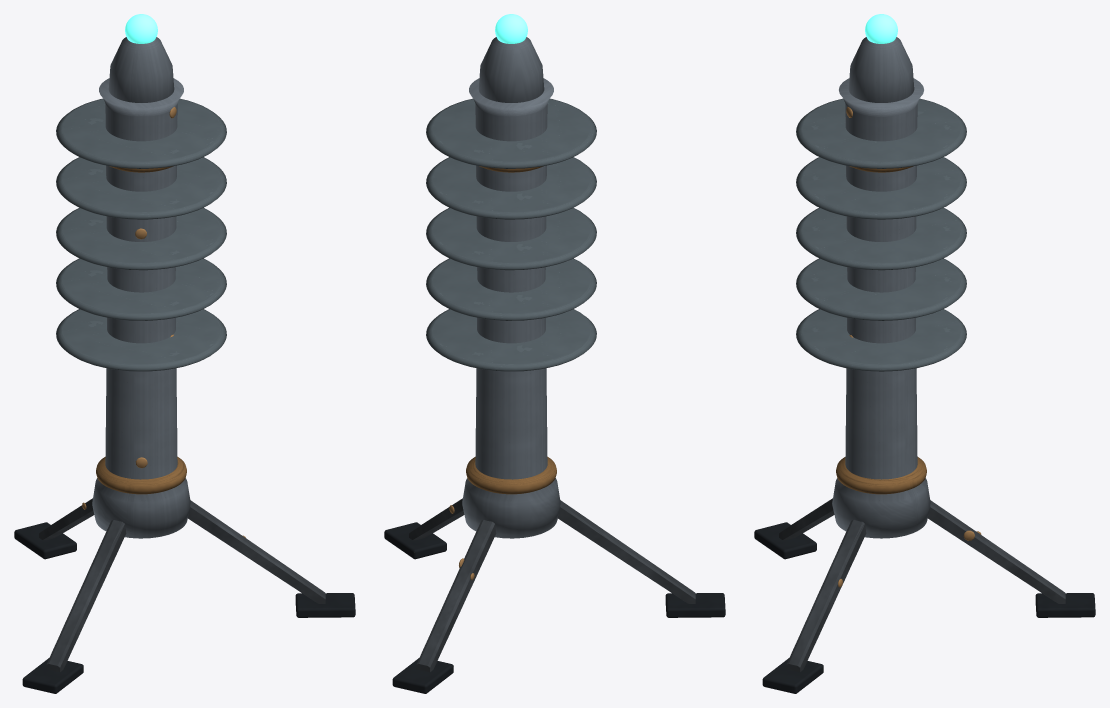
Rendered from pulse-pylon.glb.
The picture shows the model from 3 angles, left to right: view 1: azimuth 30°, elevation 25°; view 2: azimuth 150°, elevation 25°; view 3: azimuth 270°, elevation 25°; orthographic projection.
Visible parts, largest first — view 1: ceramic / ceramic composite panel, alloy / machined anodized alloy, darksteel / oil-blackened fittings, polymer / stippled polymer, bronze / cast bronze with patina, energy / emissive field channel; view 2: ceramic / ceramic composite panel, alloy / machined anodized alloy, darksteel / oil-blackened fittings, polymer / stippled polymer, bronze / cast bronze with patina, energy / emissive field channel; view 3: ceramic / ceramic composite panel, alloy / machined anodized alloy, darksteel / oil-blackened fittings, polymer / stippled polymer, bronze / cast bronze with patina, energy / emissive field channel.
Part boxes in pixels (x1,y1,x2,y2): ceramic / ceramic composite panel: (56,98,226,371); alloy / machined anodized alloy: (92,37,190,538); darksteel / oil-blackened fittings: (39,498,325,672); polymer / stippled polymer: (14,522,355,693); bronze / cast bronze with patina: (96,166,186,494); energy / emissive field channel: (125,14,157,43); ceramic / ceramic composite panel: (426,98,596,371); alloy / machined anodized alloy: (462,37,560,538); darksteel / oil-blackened fittings: (409,498,695,672); polymer / stippled polymer: (384,522,725,693); bronze / cast bronze with patina: (466,166,556,494); energy / emissive field channel: (495,14,527,43); ceramic / ceramic composite panel: (796,98,966,371); alloy / machined anodized alloy: (832,37,930,538); darksteel / oil-blackened fittings: (779,498,1065,672); polymer / stippled polymer: (754,522,1095,693); bronze / cast bronze with patina: (836,166,926,494); energy / emissive field channel: (865,14,897,43).
Size of the model in its own units: 0.5898 by 1 by 0.5187.
7 materials, 5 textured.
